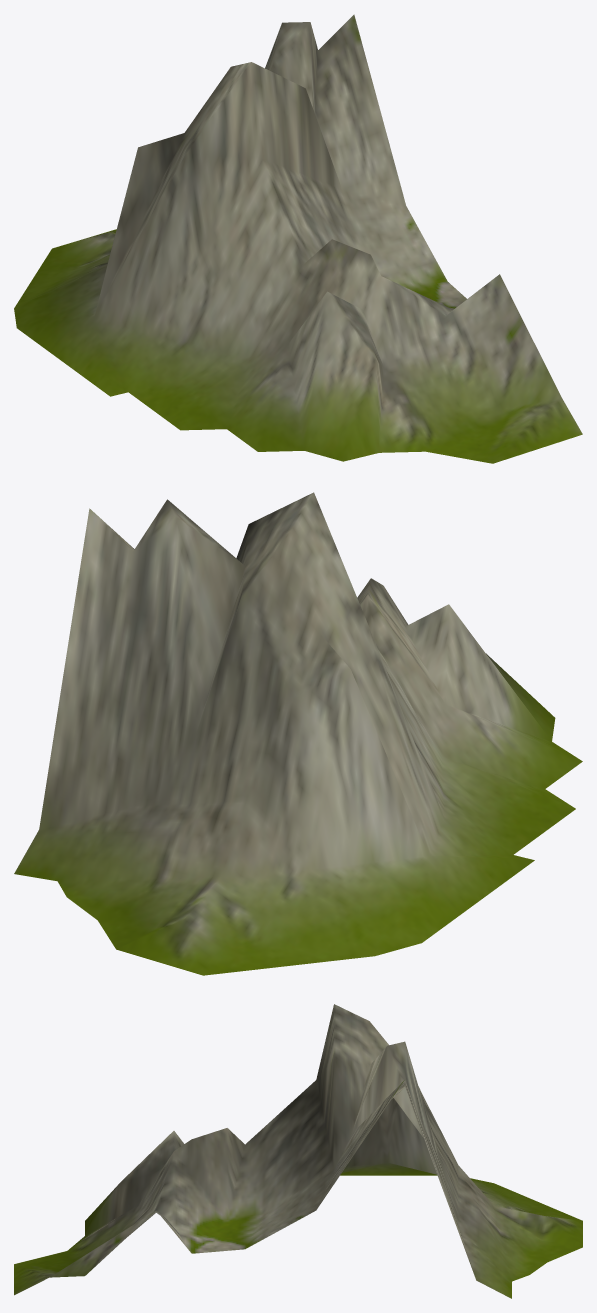
File: Terrain_10.fbx
3 views of the same model, one above another, from view 1: azimuth 30°, elevation 25°; view 2: azimuth 150°, elevation 25°; view 3: azimuth 270°, elevation 25° (orthographic). The views are drawn at different scales.
Visible parts, largest first — view 1: Terrain_10; view 2: Terrain_10; view 3: Terrain_10.
Boxes of the visible parts, box(x1,y1,x2,y2) form: Terrain_10: box(14, 14, 582, 463); Terrain_10: box(14, 492, 582, 975); Terrain_10: box(14, 1004, 582, 1298).
Size of the model in its own units: 13.74 by 12 by 25.86.
